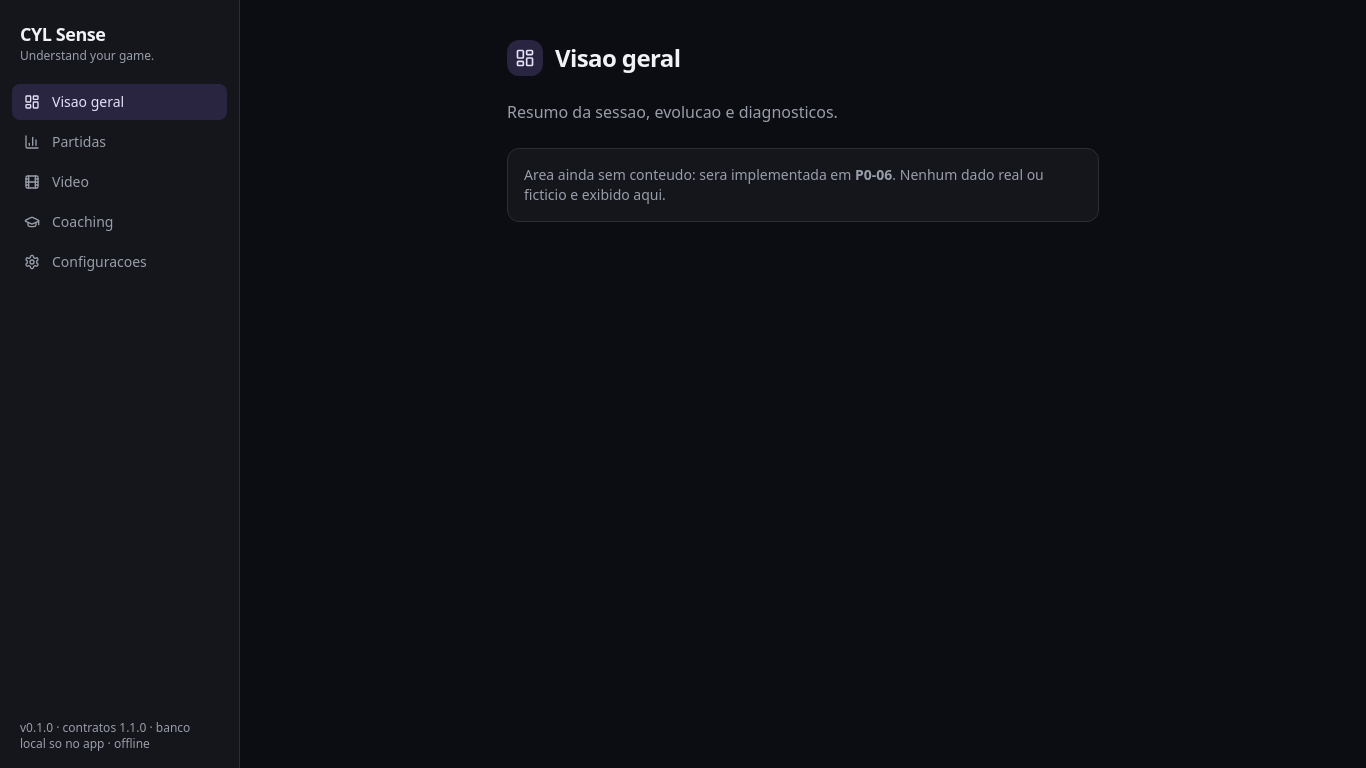
Test: App shell › Partidas abre a secao real (fora do Tauri explica que o historico e local)
The width and height of the screenshot is (1366, 768).
Click the button "Partidas". click: (120, 142)
box: [12, 124, 227, 160]
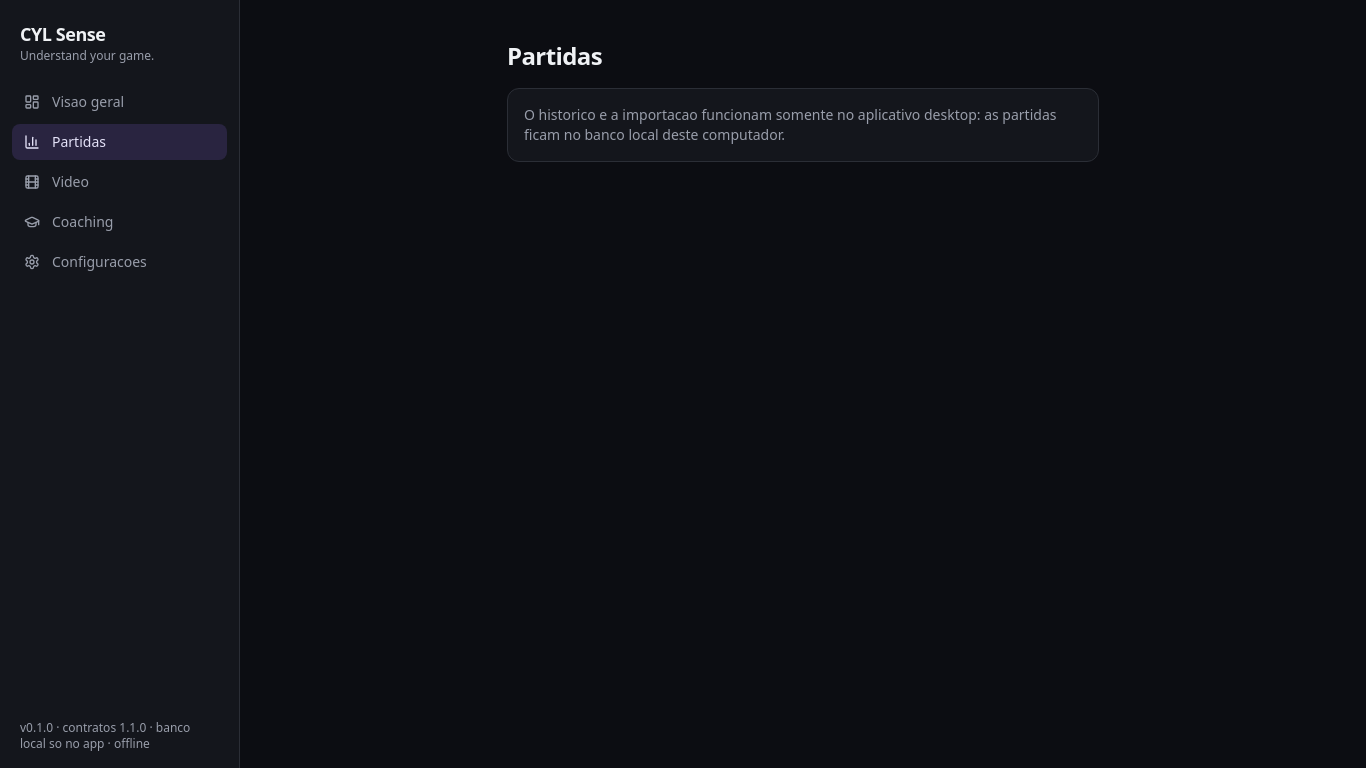
Check: the heading reads "Partidas", box [507, 39, 602, 72]
Check: the text "somente no aplicativo desktop" is shown, box [524, 105, 1056, 144]
